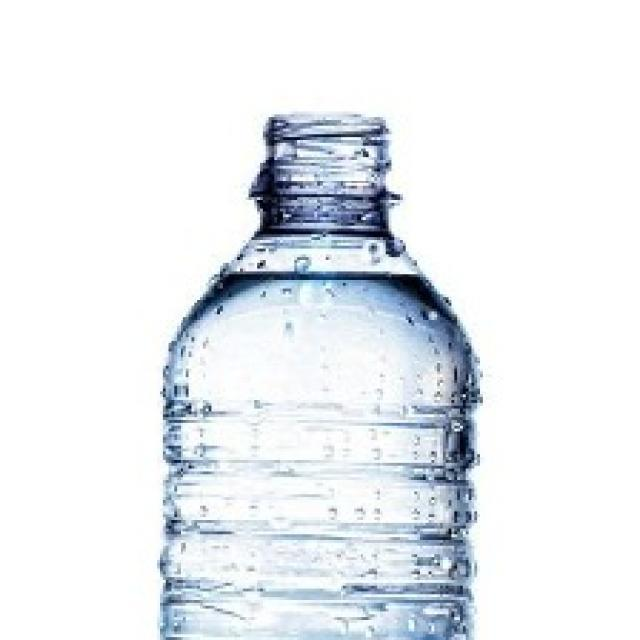plastic_bottle: (149, 74, 483, 610)
